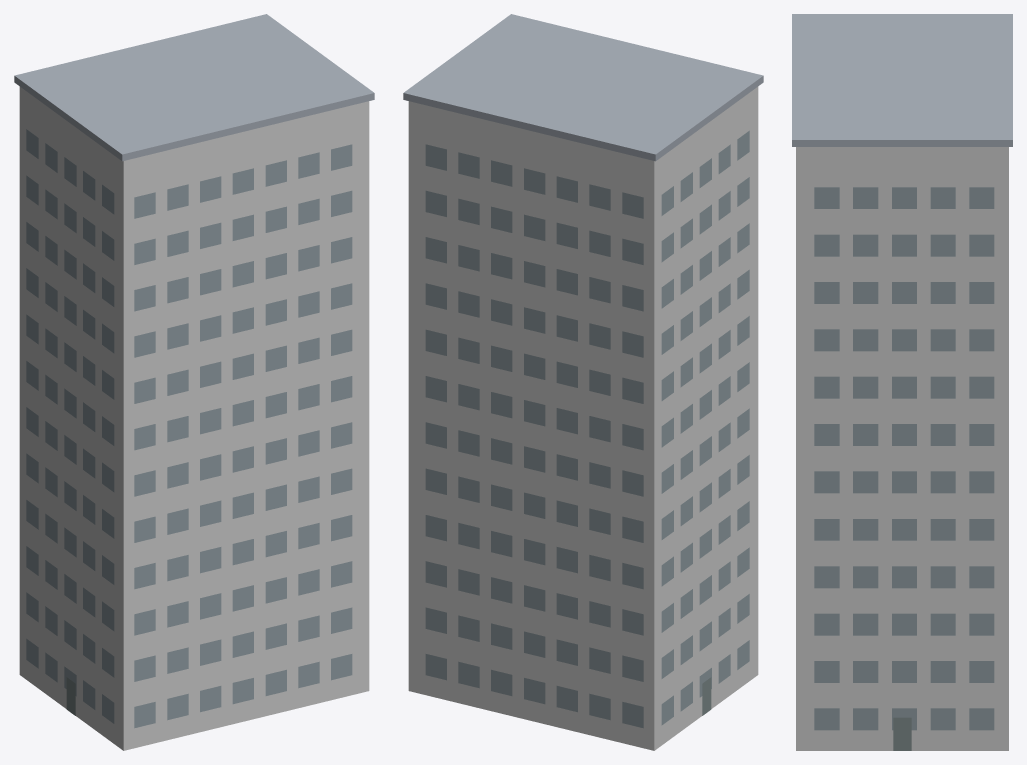
Rendered from tower_1.glb.
3 views of the same model, side by side, from view 1: azimuth 30°, elevation 25°; view 2: azimuth 150°, elevation 25°; view 3: azimuth 270°, elevation 25° (orthographic). The views are drawn at different scales.
Parts seen in each view (by area): view 1: tower_1; view 2: tower_1; view 3: tower_1.
Part boxes in pixels (<box>): tower_1: <box>14,14,374,750</box>; tower_1: <box>403,14,763,750</box>; tower_1: <box>792,14,1012,750</box>.
Bounding box in the file's own units: 15.4 × 34.9 × 11.4.
